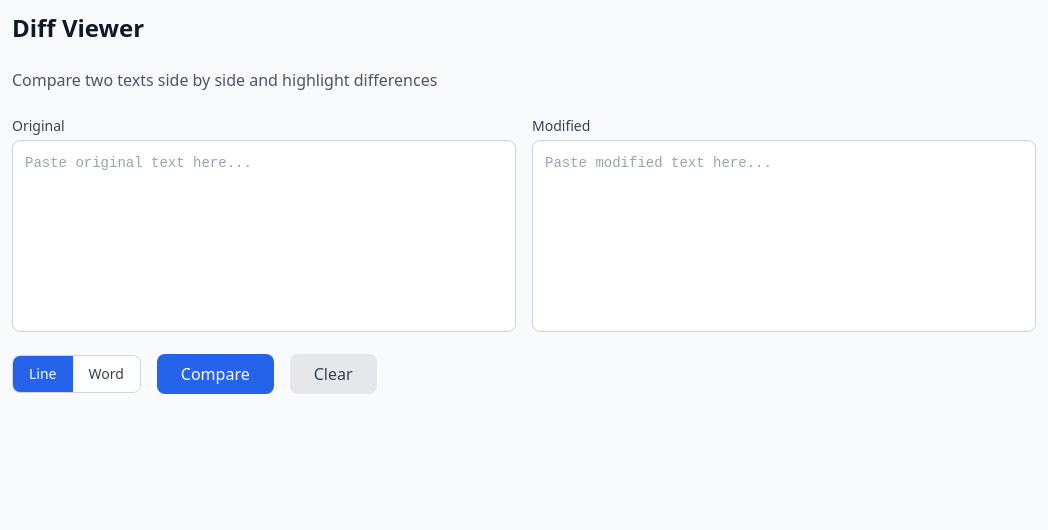
Test case: DiffViewer › can switch between line and word mode
The width and height of the screenshot is (1048, 530).
Click the button "Word": (106, 374) x1=72 y1=356 x2=140 y2=392
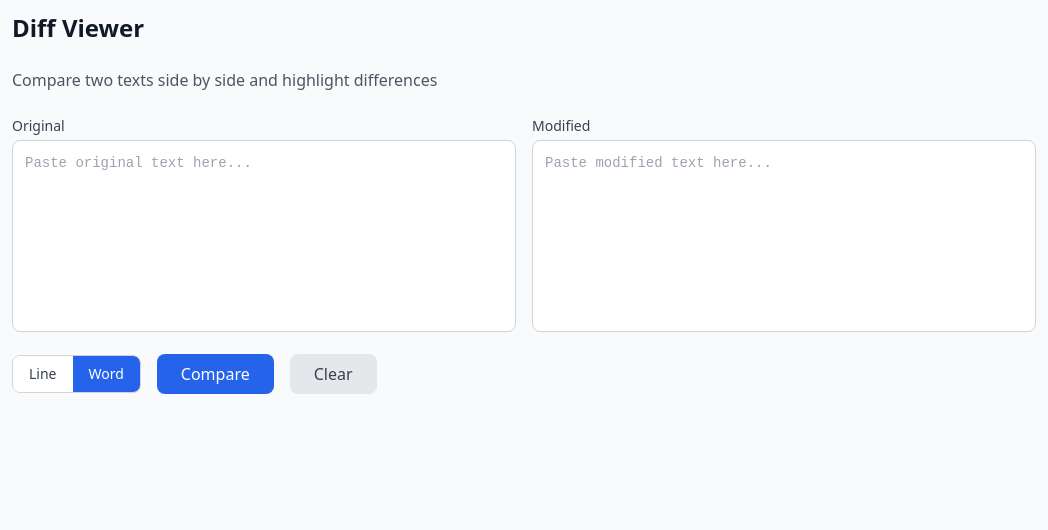
In the text box labelled "Original": (264, 236) x1=12 y1=140 x2=516 y2=332, type "hello world"
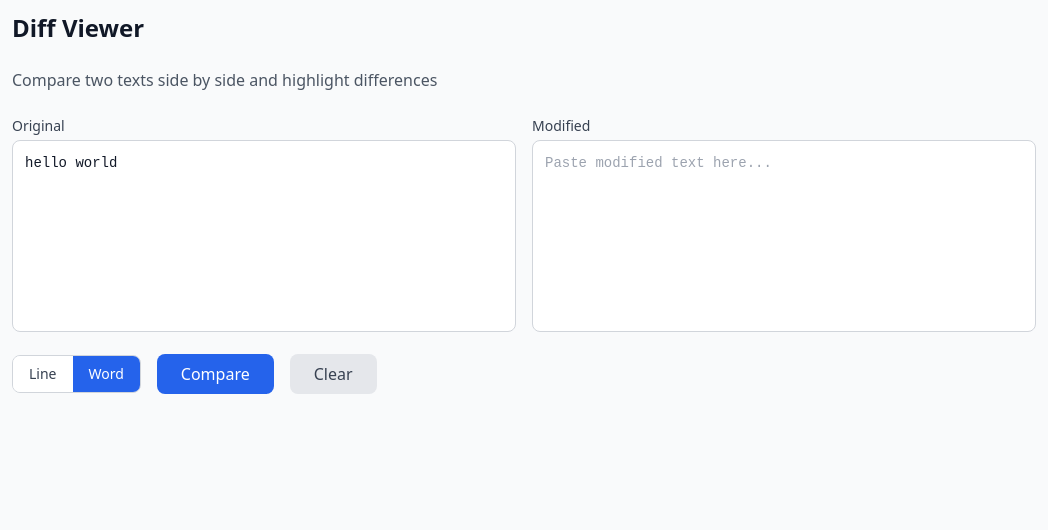
In the text box labelled "Modified": (784, 236) x1=532 y1=140 x2=1036 y2=332, type "hello earth"
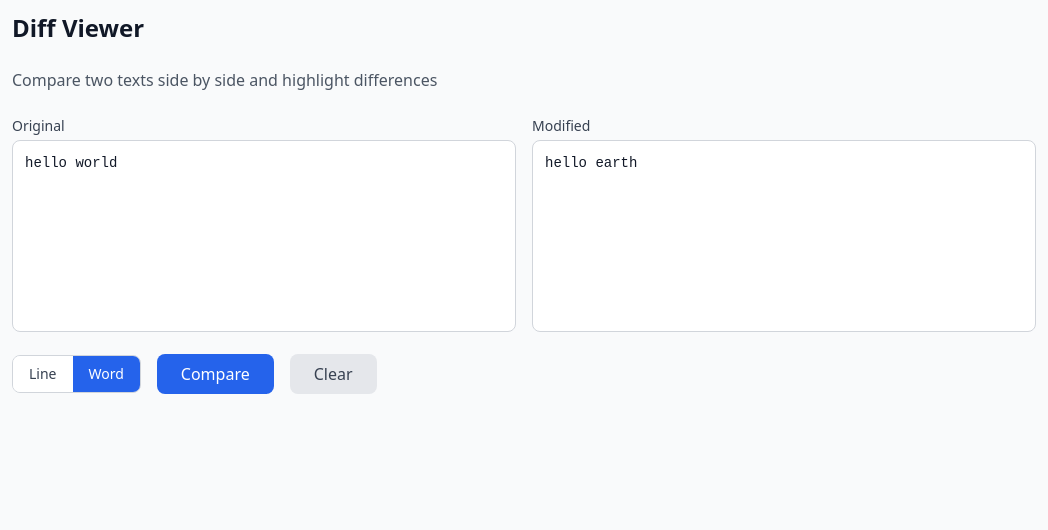
Click the button "Compare": (215, 374) x1=157 y1=354 x2=274 y2=394
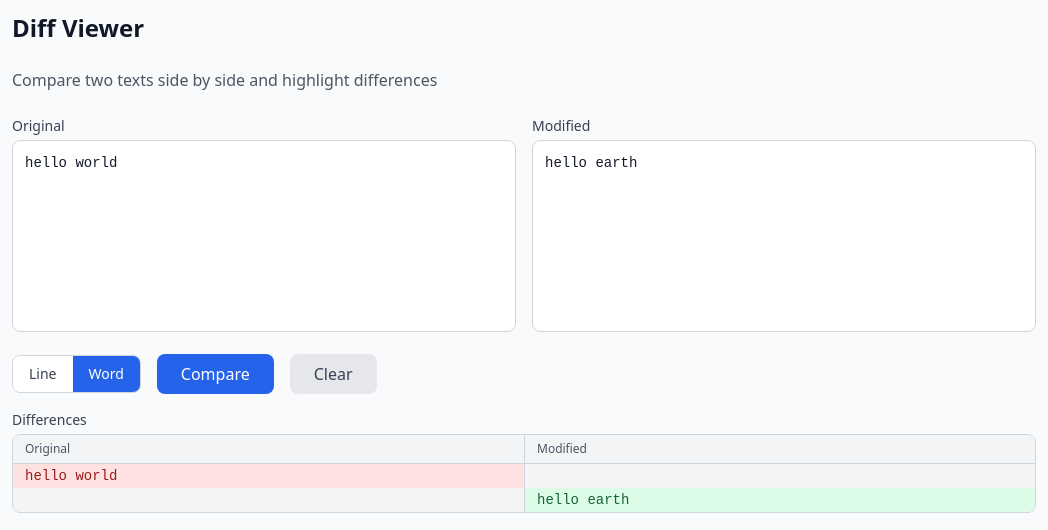
Expected: the text "Differences" is shown, x1=12 y1=410 x2=87 y2=429
